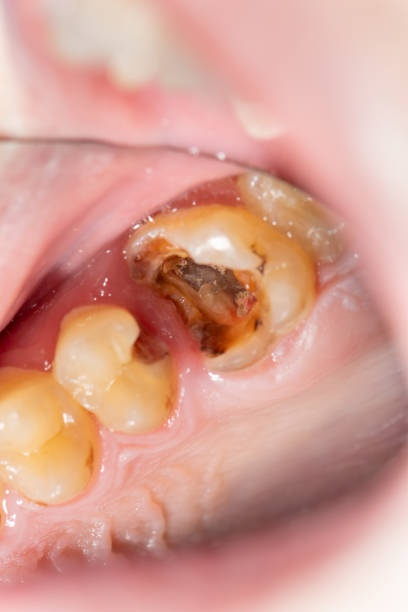Caries: (93, 217, 303, 371)
